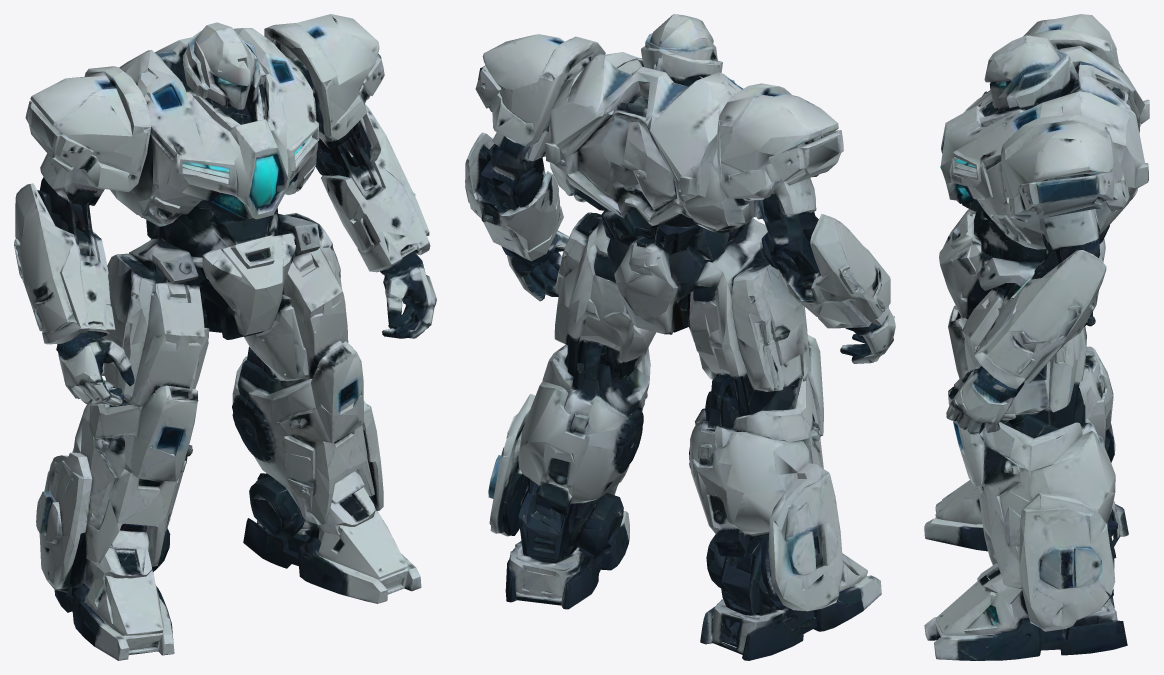
File: mx_colossus_mech.glb
3 views of the same model, side by side, from view 1: azimuth 30°, elevation 25°; view 2: azimuth 150°, elevation 25°; view 3: azimuth 270°, elevation 25° (orthographic). The views are drawn at different scales.
Bounding box in the file's own units: 1.36 × 1.9 × 0.7067.
Materials: 1 (1 with a texture image).
